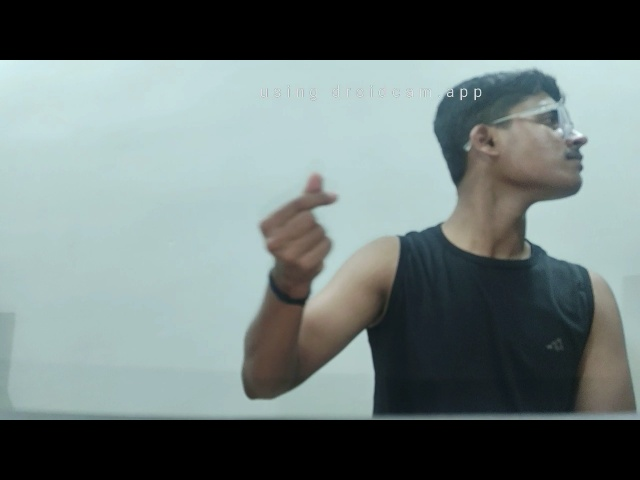iloveu: (245, 164, 342, 278)
